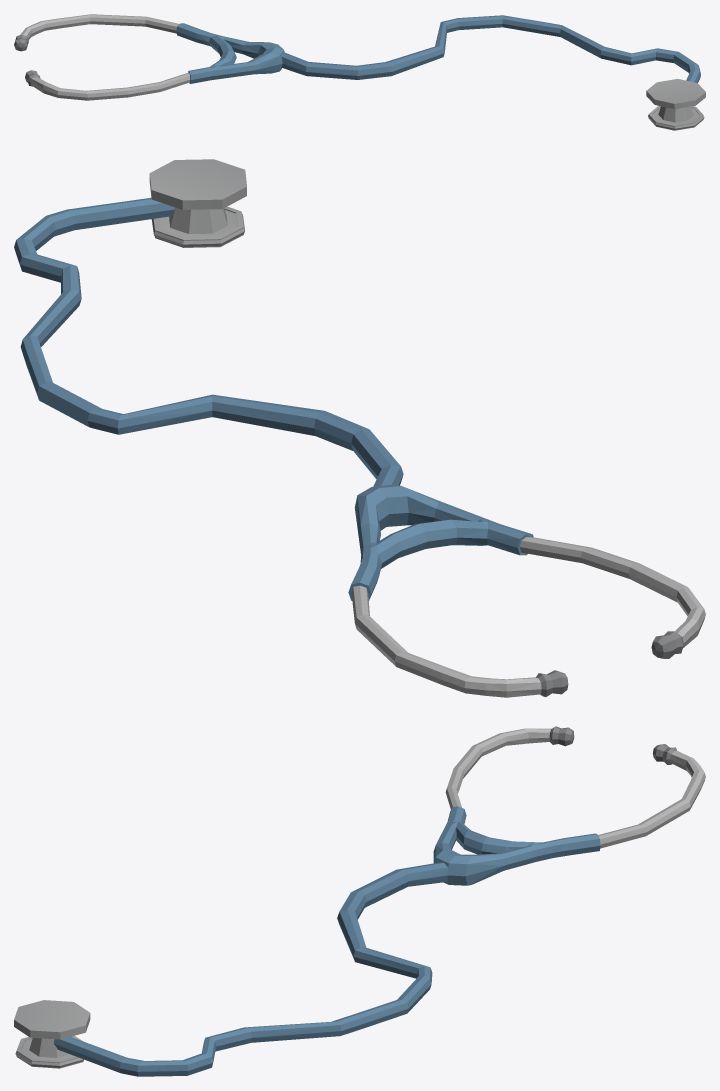
The model's file is stetoscope.obj.
3 views of the same model, one above another, from view 1: azimuth 30°, elevation 25°; view 2: azimuth 150°, elevation 25°; view 3: azimuth 270°, elevation 25° (orthographic). The views are drawn at different scales.
Visible parts, largest first — view 1: stetoscope_Material; view 2: stetoscope_Material; view 3: stetoscope_Material.
Part boxes in pixels (x1,y1,x2,y2): stetoscope_Material: (14,14,705,130); stetoscope_Material: (14,159,705,697); stetoscope_Material: (14,726,705,1076).
Size of the model in its own units: 0.5086 by 0.0261 by 0.4373.
